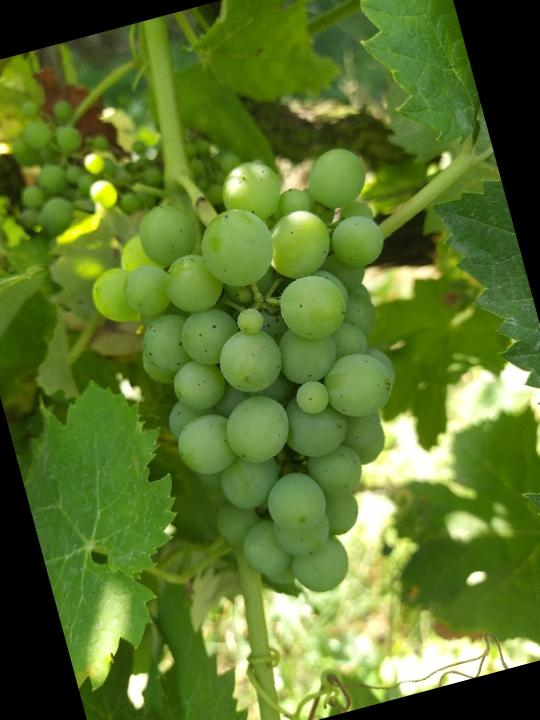grape: (68, 129, 469, 633)
